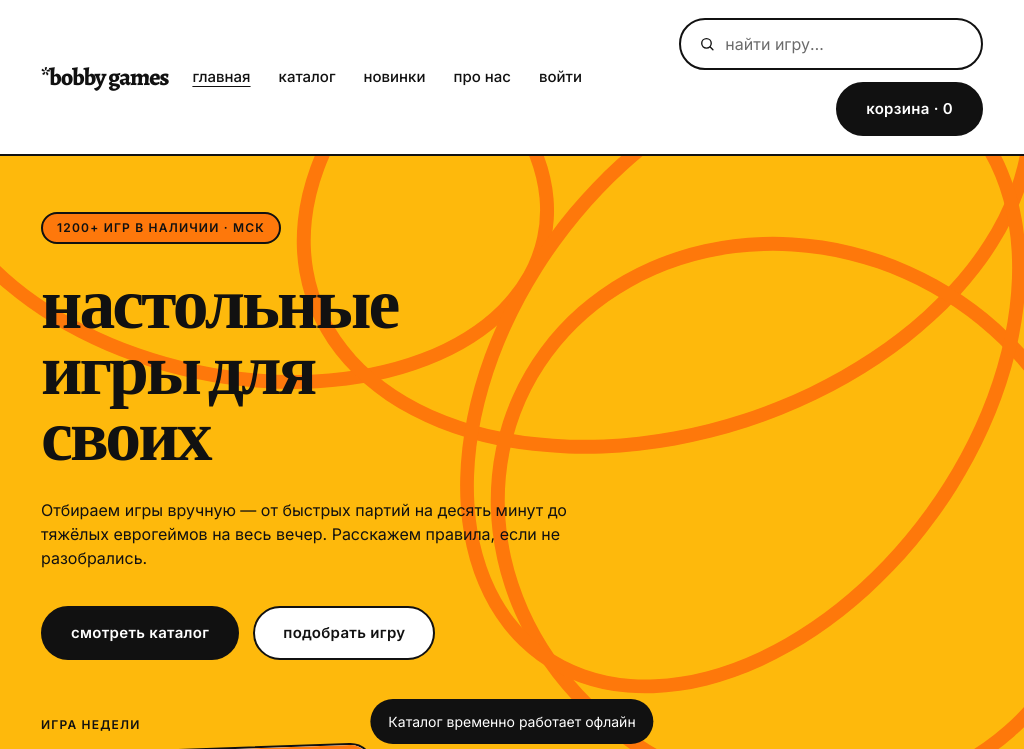
Test: корзина › не даёт гостю менять корзину
Click the button "корзина · 0" at (910, 109), box x1=836 y1=82 x2=983 y2=136
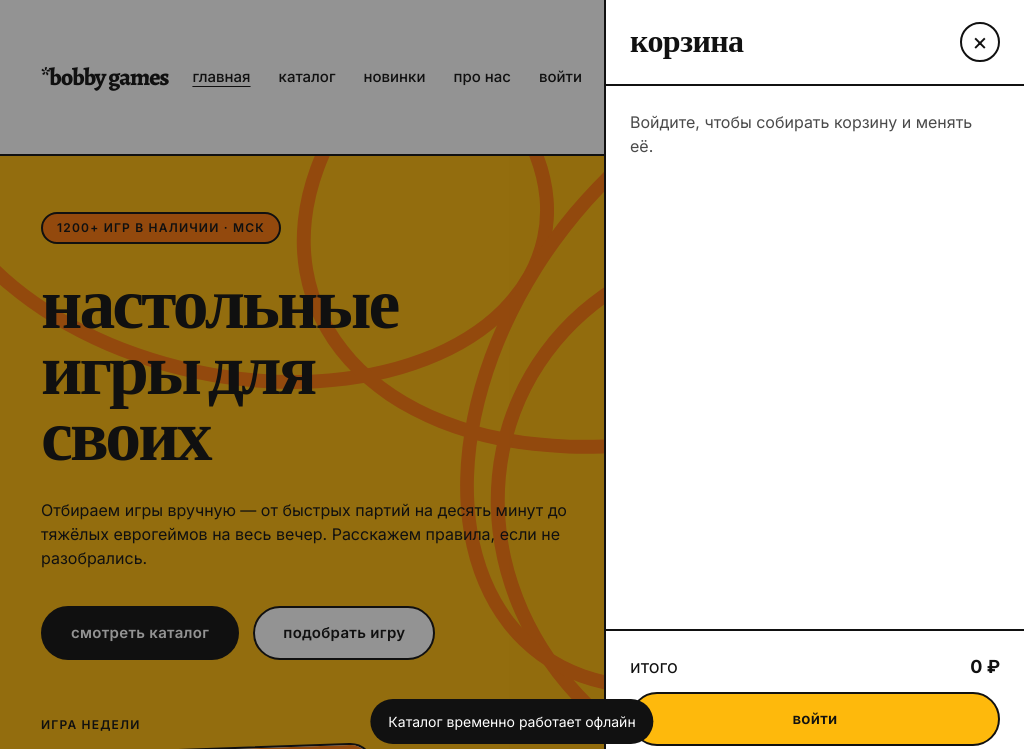
expect the text "Войдите, чтобы собирать корзину и менять её." is shown: met, box x1=630 y1=112 x2=972 y2=156
Click the button "войти" at (815, 719), box x1=630 y1=692 x2=1000 y2=746
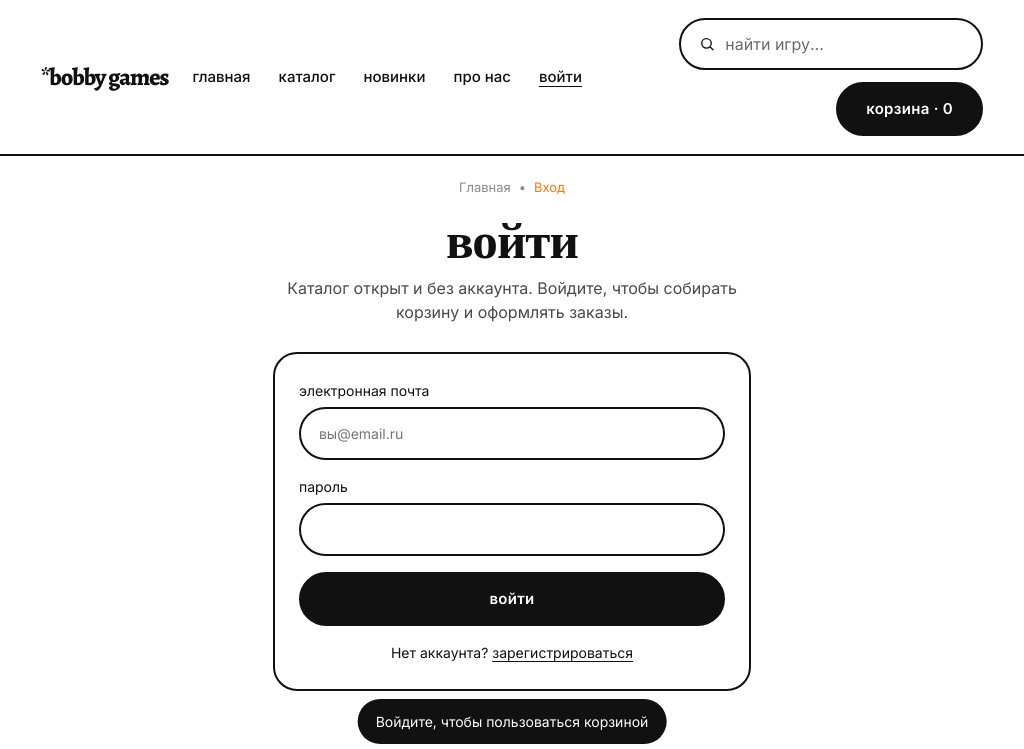
expect the button "корзина · 0" is shown: met, box x1=836 y1=82 x2=983 y2=136
expect the heading "войти" is shown: met, box x1=446 y1=206 x2=578 y2=276
expect the text "Войдите, чтобы пользоваться корзиной" is shown: met, box x1=358 y1=699 x2=666 y2=744
